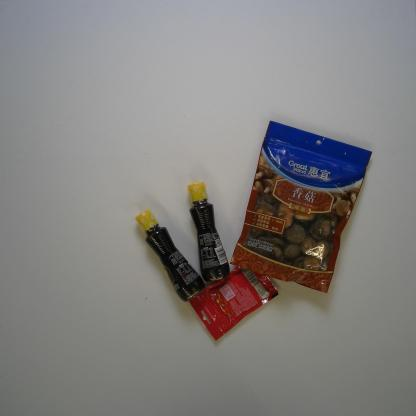Candy: (189, 264, 279, 342)
Dried Food: (228, 119, 374, 295)
Seasoner: (134, 208, 207, 303), (186, 182, 230, 283)
